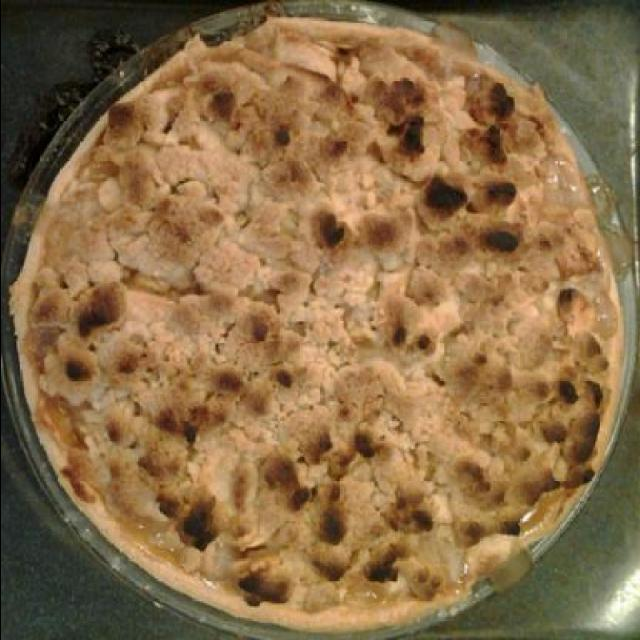Apple: (31, 35, 618, 623)
